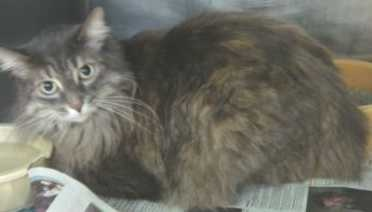Cat: (56, 8, 357, 209)
